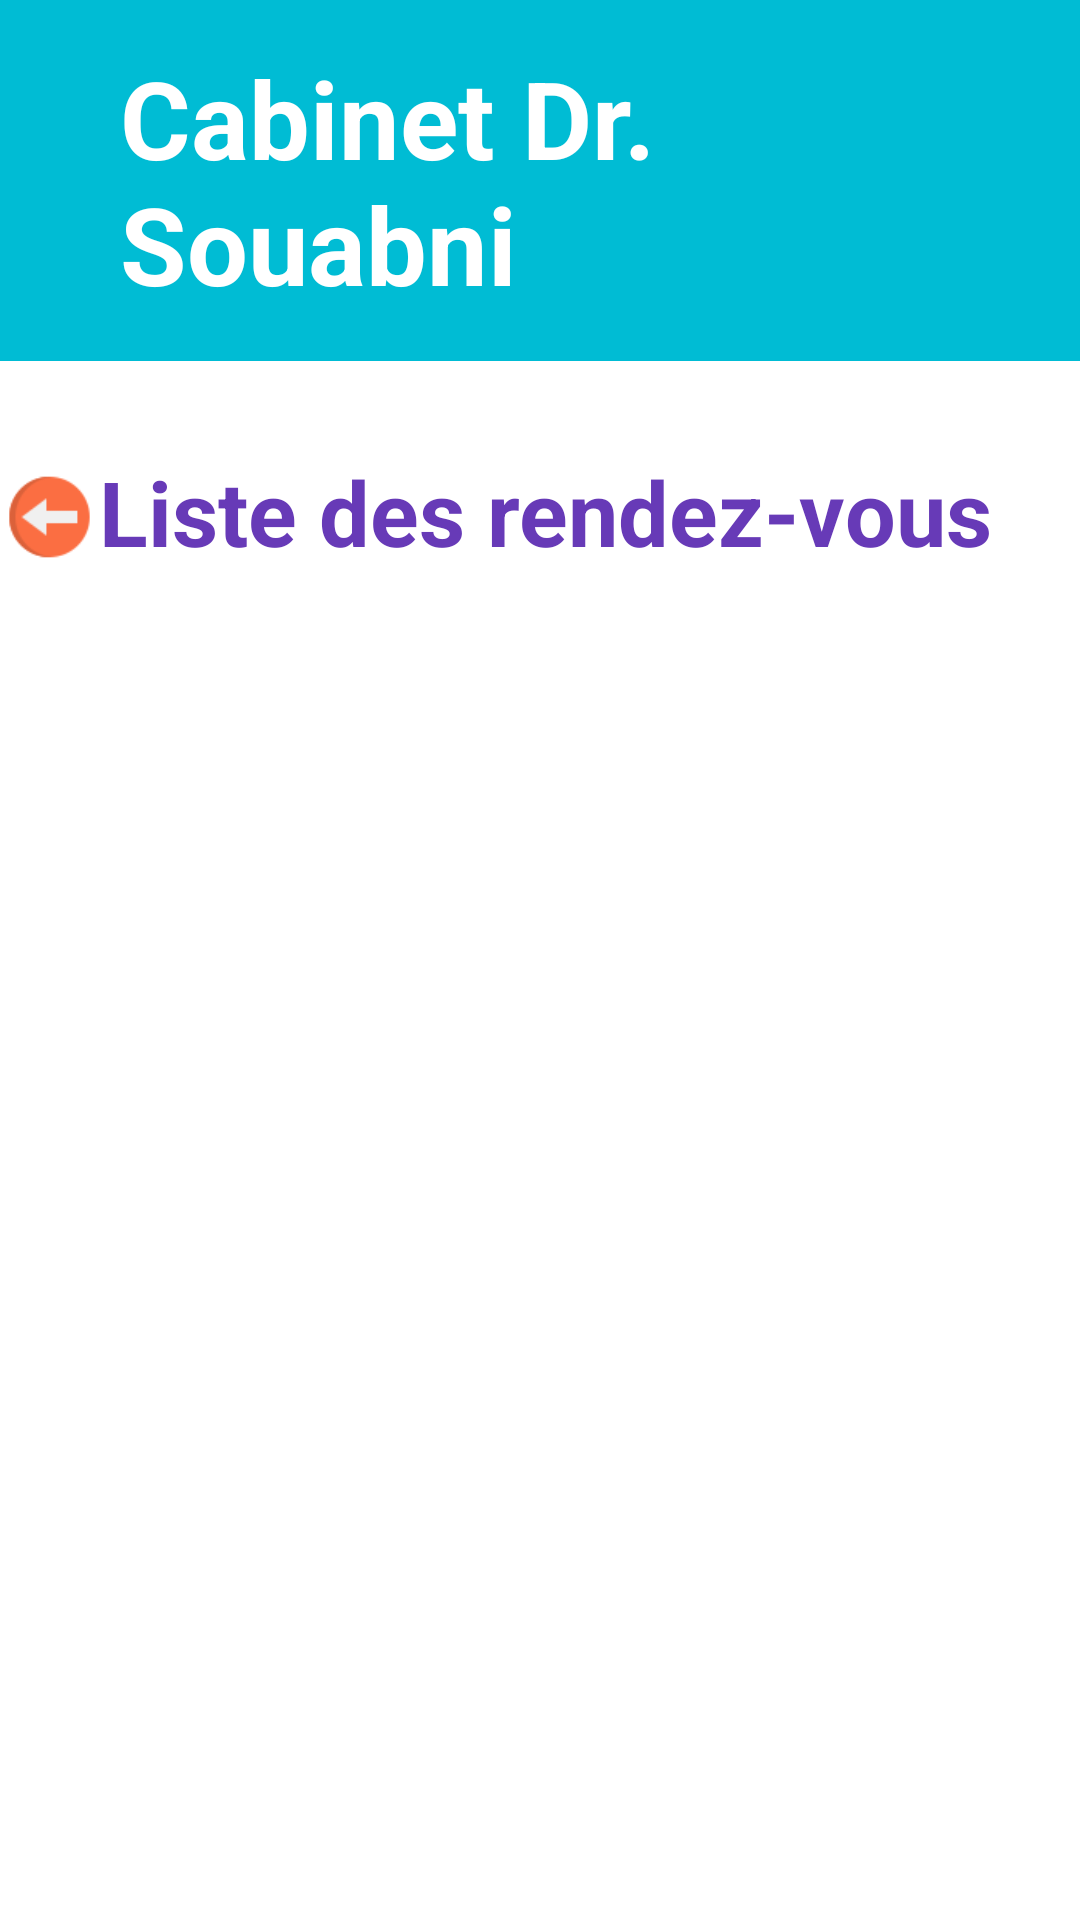

Point at icon controls on the screen. Image size 1080 × 1920, points as (x=x, y=y).
backorange: (x=49, y=517)
